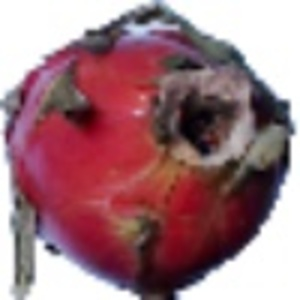pitaia: (1, 1, 299, 300)
